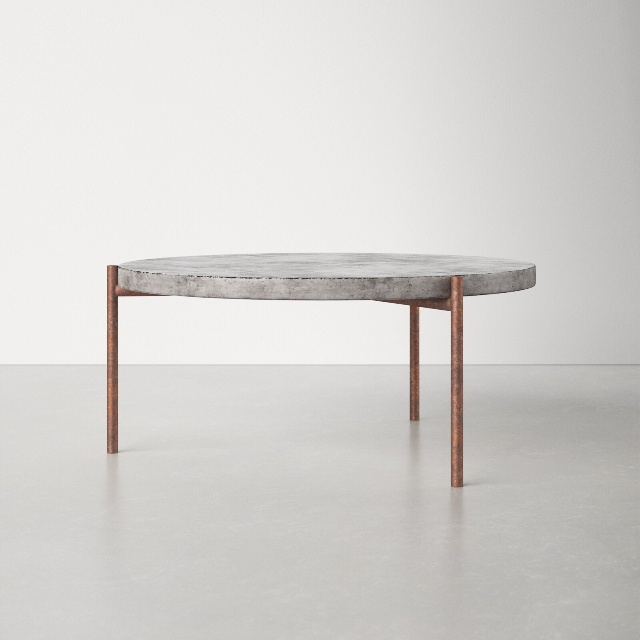obstacle: (107, 253, 535, 487)
